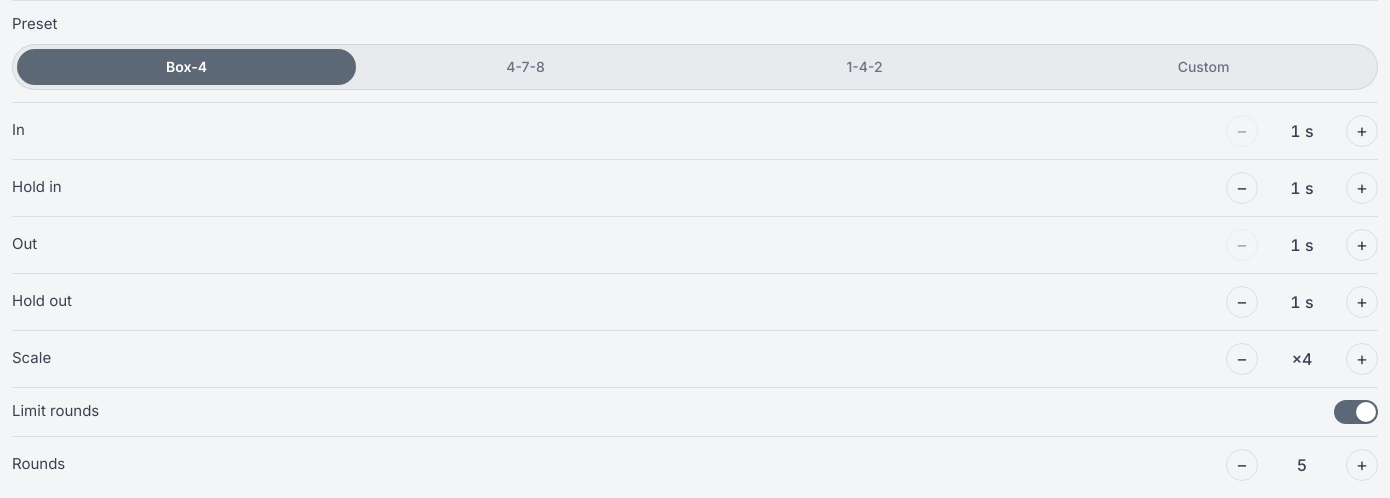
Test case: PatternBreathingSettingsForm — rounds limit toggle › toggling off then back on restores the user’s finite rounds
The image size is (1390, 498).
Click the switch named "Limit rounds". click: point(1356, 412)
box: x1=1334 y1=400 x2=1378 y2=424
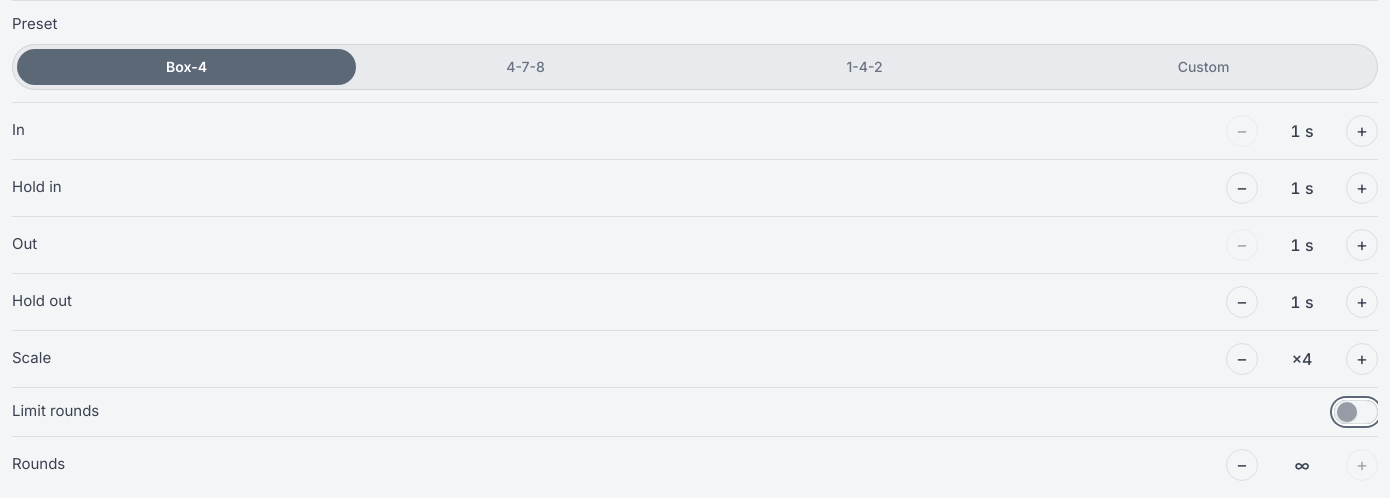
Expected: the switch named "Limit rounds" is not checked
Click the switch named "Limit rounds". click: point(1356, 412)
box: x1=1334 y1=400 x2=1378 y2=424
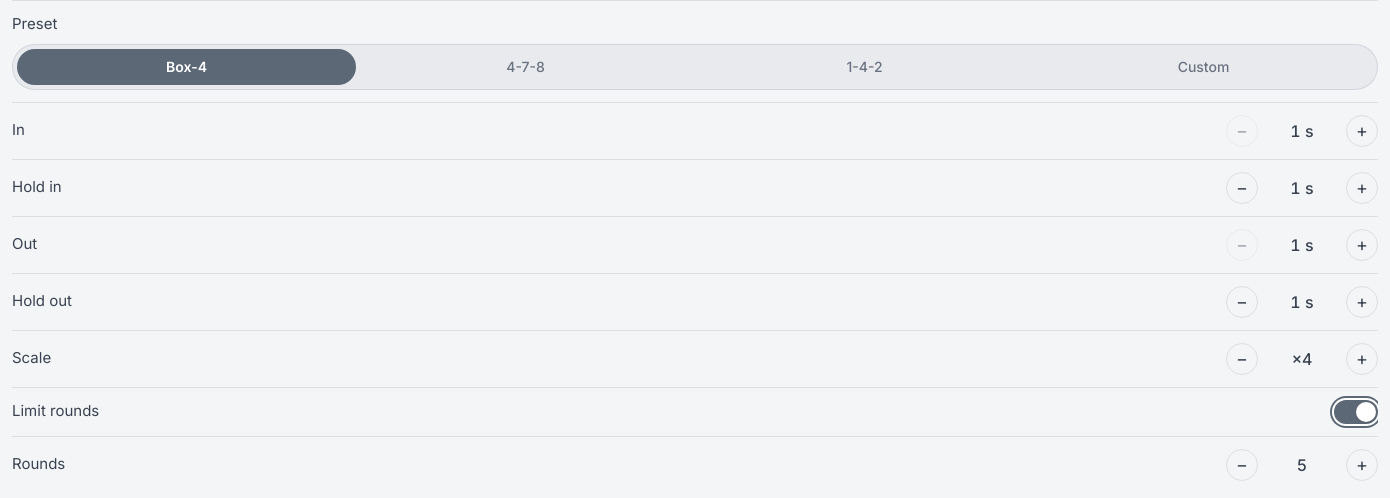
Expected: the switch named "Limit rounds" is checked, x1=1334 y1=400 x2=1378 y2=424
Expected: the text "5" is shown, x1=1297 y1=454 x2=1307 y2=474
